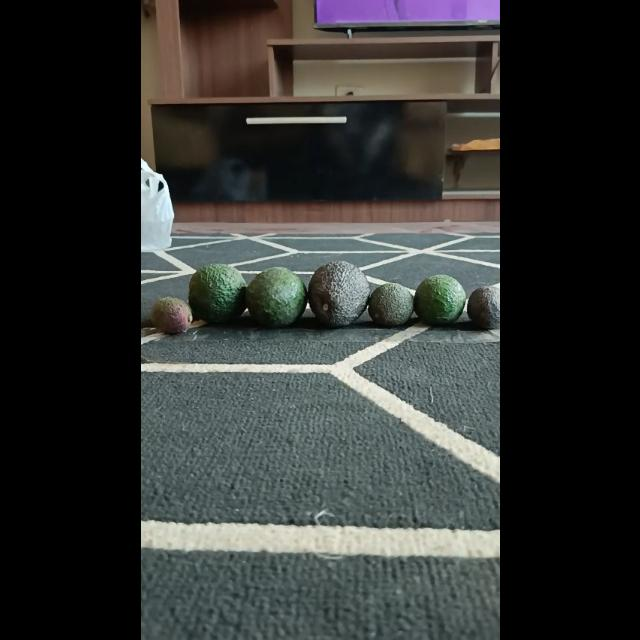Primera: (306, 260, 368, 326), (245, 266, 308, 328), (187, 262, 247, 324)
Segunda: (412, 274, 466, 324)
Tercera: (368, 283, 414, 327), (148, 295, 192, 335), (466, 284, 499, 330)
